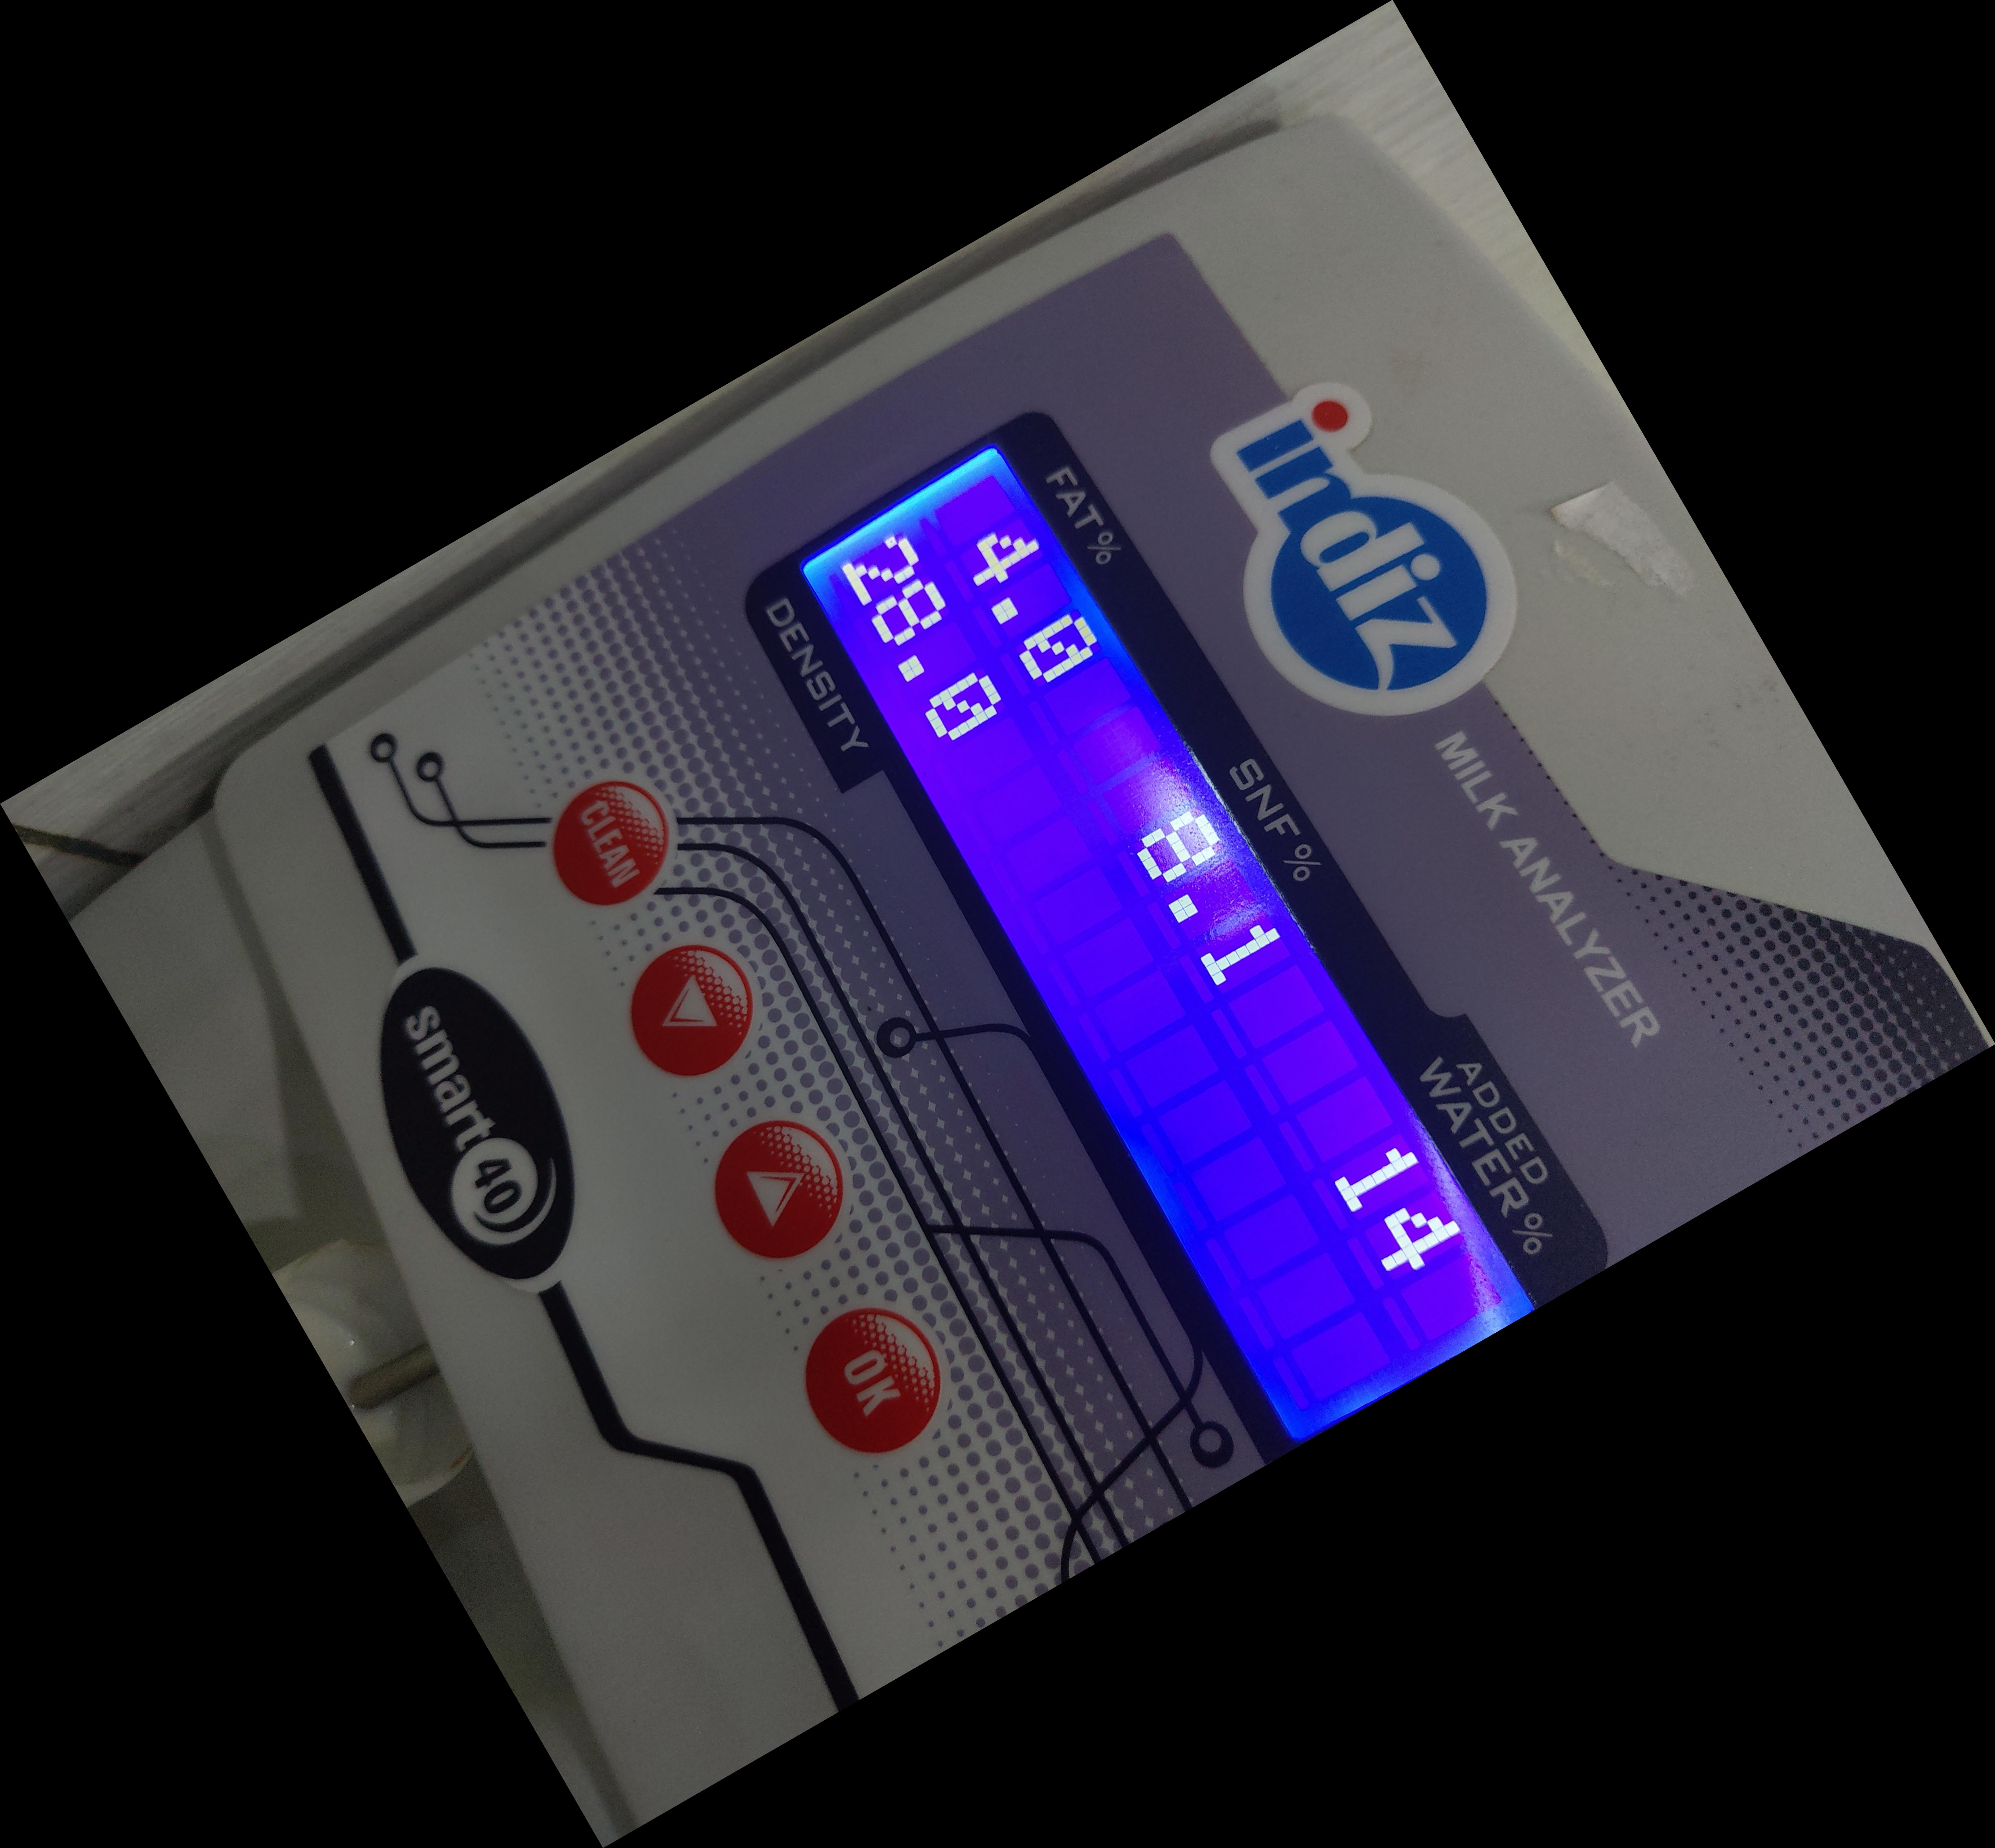lcd: (740, 440, 1554, 1452)
